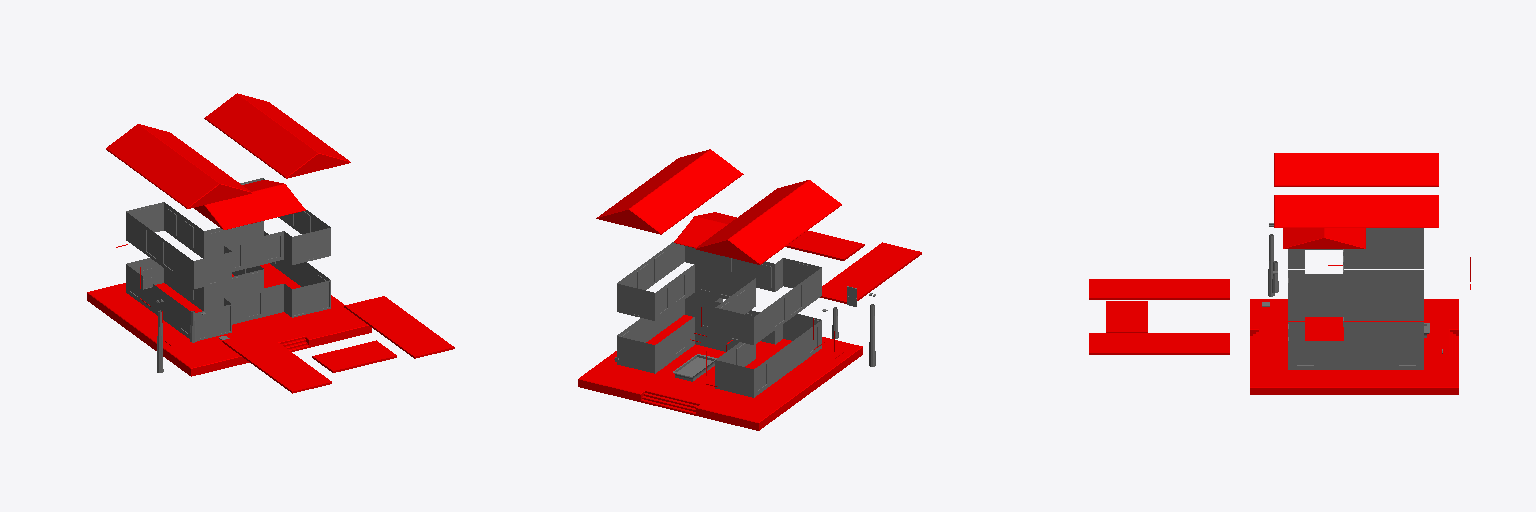
Rendered from TheActualLibrary.obj.
3 views of the same model, side by side, from view 1: azimuth 30°, elevation 25°; view 2: azimuth 150°, elevation 25°; view 3: azimuth 270°, elevation 25° (orthographic).
Visible parts, largest first — view 1: LibraryUVsEXploded Walls EntrySecondFloorLibrary2, RoofAndFloor LibraryUVsEXploded Elite_EgyptianRoofAndGroundLibra, LibraryUVsEXploded Walls FirstFloorBigWall4, RoofAndFloor LibraryUVsEXploded GreekTraderHomeUVSeparatedMoreDe, GreekTraderHomeUVSeparatedMoreDetailsBigRoofRoofs5 RoofAndFloor , RoofAndFloor LibraryUVsEXploded FloorSeperator2, RoofAndFloor LibraryUVsEXploded FloorSeperator3, RoofAndFloor LibraryUVsEXploded EntryFloorSeparator1; view 2: LibraryUVsEXploded Walls EntrySecondFloorLibrary2, RoofAndFloor LibraryUVsEXploded Elite_EgyptianRoofAndGroundLibra, LibraryUVsEXploded Walls FirstFloorBigWall4, RoofAndFloor LibraryUVsEXploded GreekTraderHomeUVSeparatedMoreDe, GreekTraderHomeUVSeparatedMoreDetailsBigRoofRoofs5 RoofAndFloor , RoofAndFloor LibraryUVsEXploded FloorSeperator3, RoofAndFloor LibraryUVsEXploded EntryFloorSeparator1, LibraryUVsEXploded Walls pCube42; view 3: RoofAndFloor LibraryUVsEXploded Elite_EgyptianRoofAndGroundLibra, LibraryUVsEXploded Walls EntrySecondFloorLibrary2, RoofAndFloor LibraryUVsEXploded GreekTraderHomeUVSeparatedMoreDe, LibraryUVsEXploded Walls FirstFloorBigWall4, GreekTraderHomeUVSeparatedMoreDetailsBigRoofRoofs5 RoofAndFloor , RoofAndFloor LibraryUVsEXploded FloorSeperator2, RoofAndFloor LibraryUVsEXploded FloorSeperator3, RoofAndFloor LibraryUVsEXploded EntryFloorSeparator1.
Boxes of the visible parts, box(x1,y1,x2,y2) form: LibraryUVsEXploded Walls EntrySecondFloorLibrary2: box(126, 178, 330, 289); RoofAndFloor LibraryUVsEXploded Elite_EgyptianRoofAndGroundLibra: box(87, 263, 371, 376); LibraryUVsEXploded Walls FirstFloorBigWall4: box(126, 231, 330, 340); RoofAndFloor LibraryUVsEXploded GreekTraderHomeUVSeparatedMoreDe: box(194, 93, 350, 229); GreekTraderHomeUVSeparatedMoreDetailsBigRoofRoofs5 RoofAndFloor : box(106, 124, 251, 208); RoofAndFloor LibraryUVsEXploded FloorSeperator2: box(344, 296, 454, 358); RoofAndFloor LibraryUVsEXploded FloorSeperator3: box(222, 331, 331, 393); RoofAndFloor LibraryUVsEXploded EntryFloorSeparator1: box(312, 340, 396, 372); LibraryUVsEXploded Walls EntrySecondFloorLibrary2: box(617, 242, 821, 344); RoofAndFloor LibraryUVsEXploded Elite_EgyptianRoofAndGroundLibra: box(578, 315, 862, 430); LibraryUVsEXploded Walls FirstFloorBigWall4: box(617, 292, 821, 397); RoofAndFloor LibraryUVsEXploded GreekTraderHomeUVSeparatedMoreDe: box(596, 149, 743, 247); GreekTraderHomeUVSeparatedMoreDetailsBigRoofRoofs5 RoofAndFloor : box(695, 180, 841, 264); RoofAndFloor LibraryUVsEXploded FloorSeperator3: box(820, 242, 921, 303); RoofAndFloor LibraryUVsEXploded EntryFloorSeparator1: box(786, 231, 864, 260); LibraryUVsEXploded Walls pCube42: box(673, 354, 716, 381); RoofAndFloor LibraryUVsEXploded Elite_EgyptianRoofAndGroundLibra: box(1250, 299, 1458, 394); LibraryUVsEXploded Walls EntrySecondFloorLibrary2: box(1288, 228, 1423, 316); RoofAndFloor LibraryUVsEXploded GreekTraderHomeUVSeparatedMoreDe: box(1274, 195, 1438, 248); LibraryUVsEXploded Walls FirstFloorBigWall4: box(1288, 274, 1423, 369); GreekTraderHomeUVSeparatedMoreDetailsBigRoofRoofs5 RoofAndFloor : box(1274, 153, 1438, 186); RoofAndFloor LibraryUVsEXploded FloorSeperator2: box(1089, 333, 1229, 354); RoofAndFloor LibraryUVsEXploded FloorSeperator3: box(1089, 279, 1229, 299); RoofAndFloor LibraryUVsEXploded EntryFloorSeparator1: box(1106, 301, 1147, 332).
Bounding box in the file's own units: 17.13 × 14.31 × 27.42.